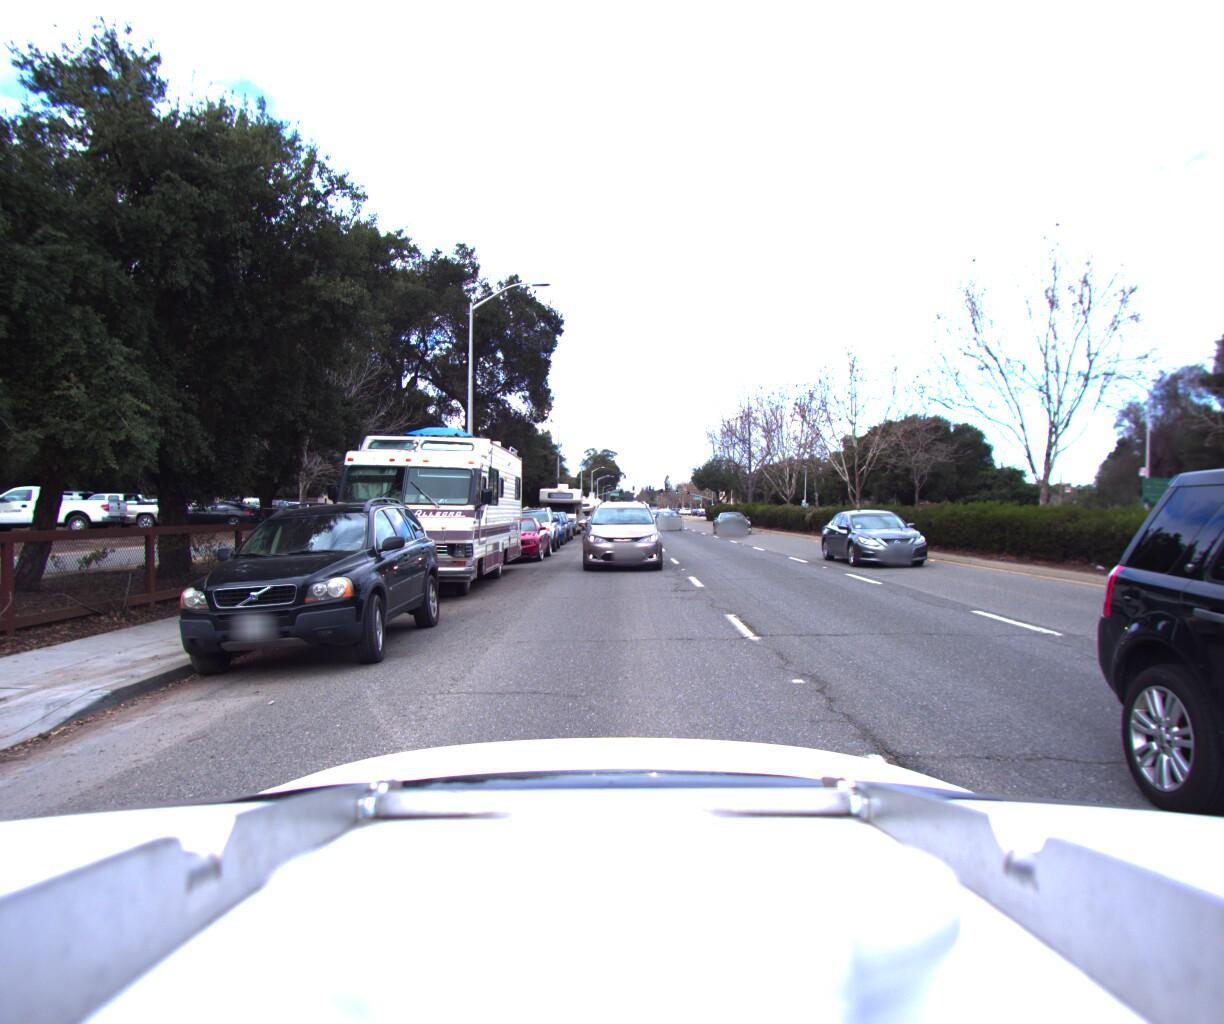car: (149, 481, 446, 689), (830, 510, 960, 577), (580, 495, 659, 575), (476, 510, 549, 562), (501, 500, 558, 548), (521, 505, 566, 542), (530, 506, 571, 539), (711, 504, 756, 532), (654, 505, 684, 528)
other_vehicle: (313, 405, 523, 610), (532, 477, 580, 533), (558, 488, 593, 526)
